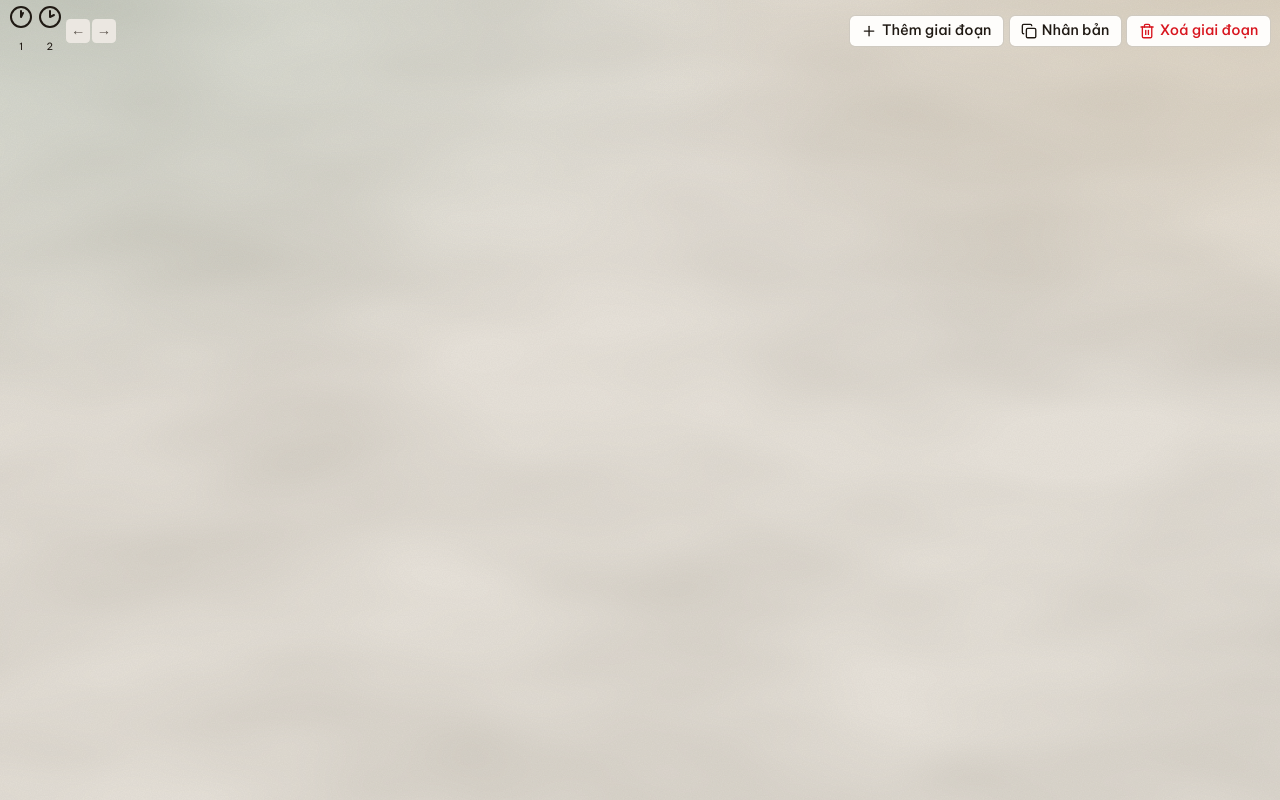
Test case: StageBar › keeps the stage when the admin backs out of the confirmation
Click the button "Xoá giai đoạn" at (1199, 31), box top-left (1126, 15), bottom-right (1271, 47)
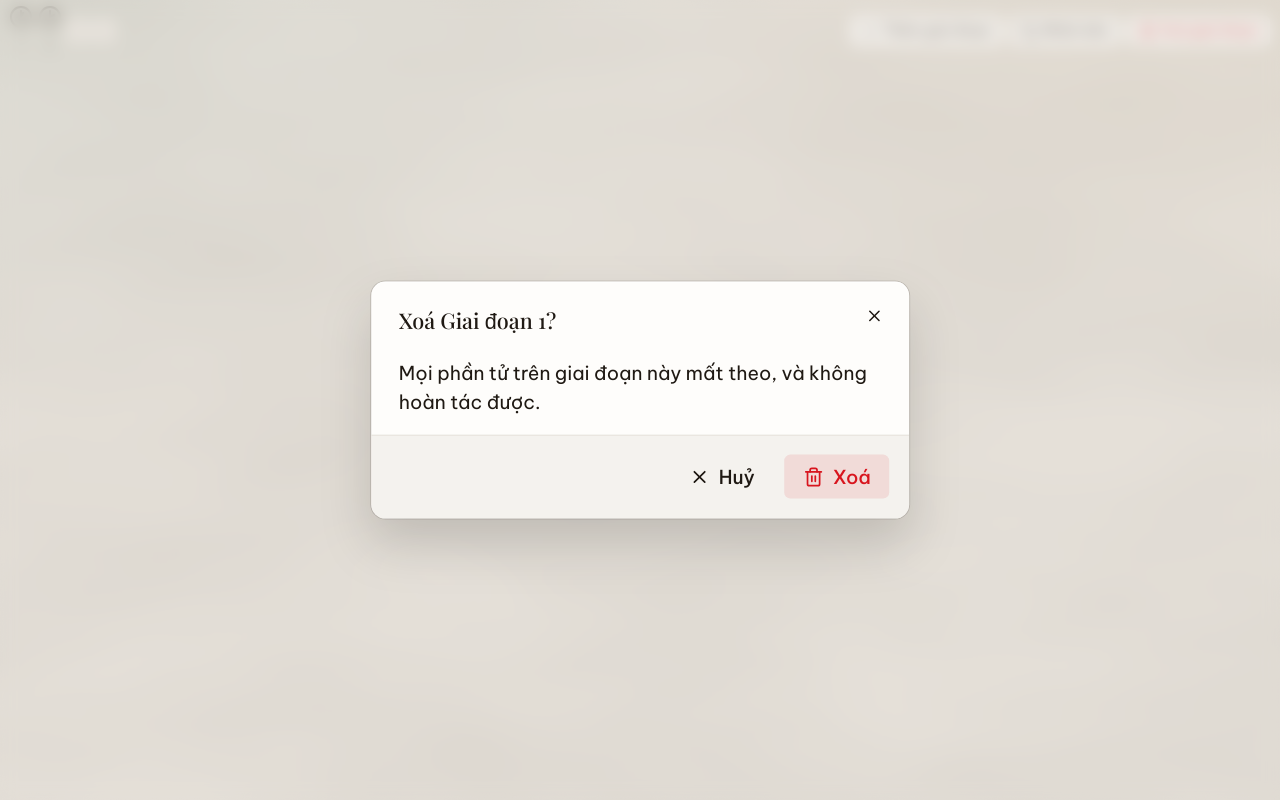
Click the button "Huỷ" at (722, 477), box top-left (669, 454), bottom-right (774, 500)
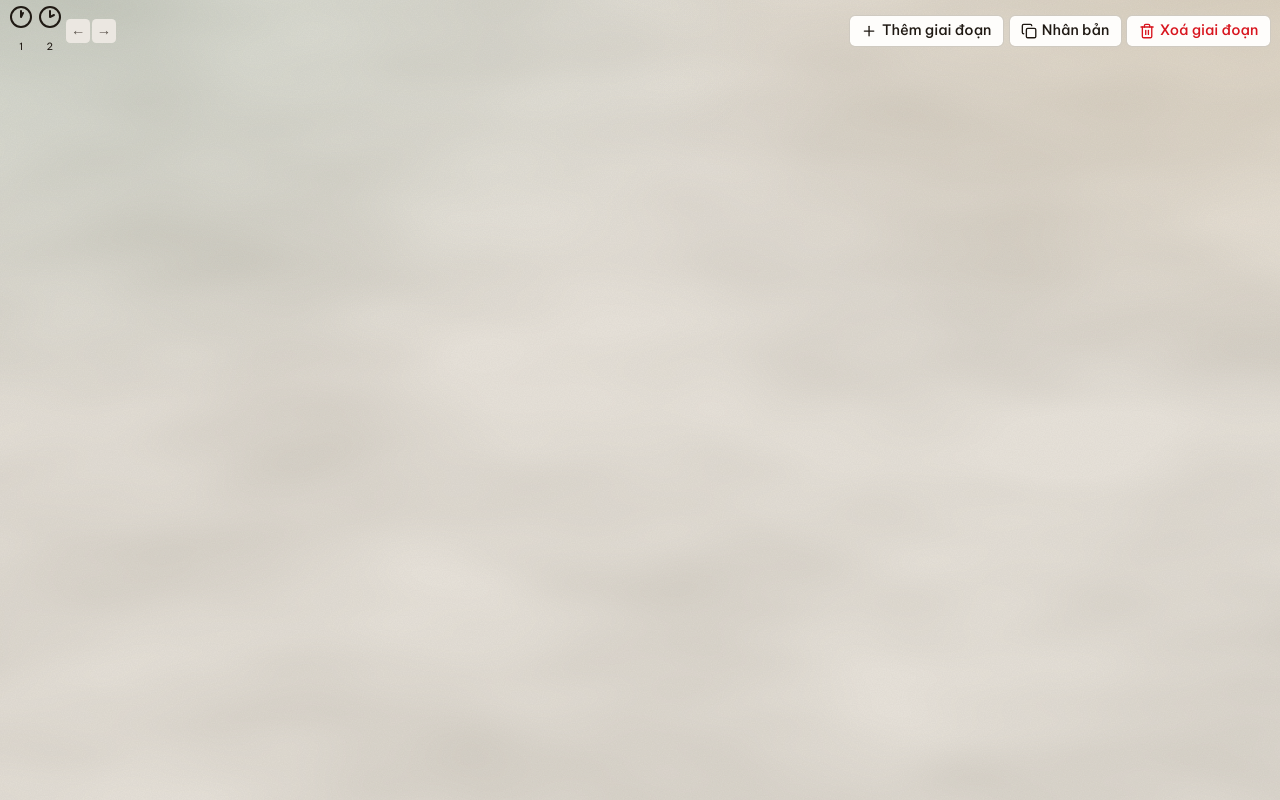
expect the dialog is gone: met
